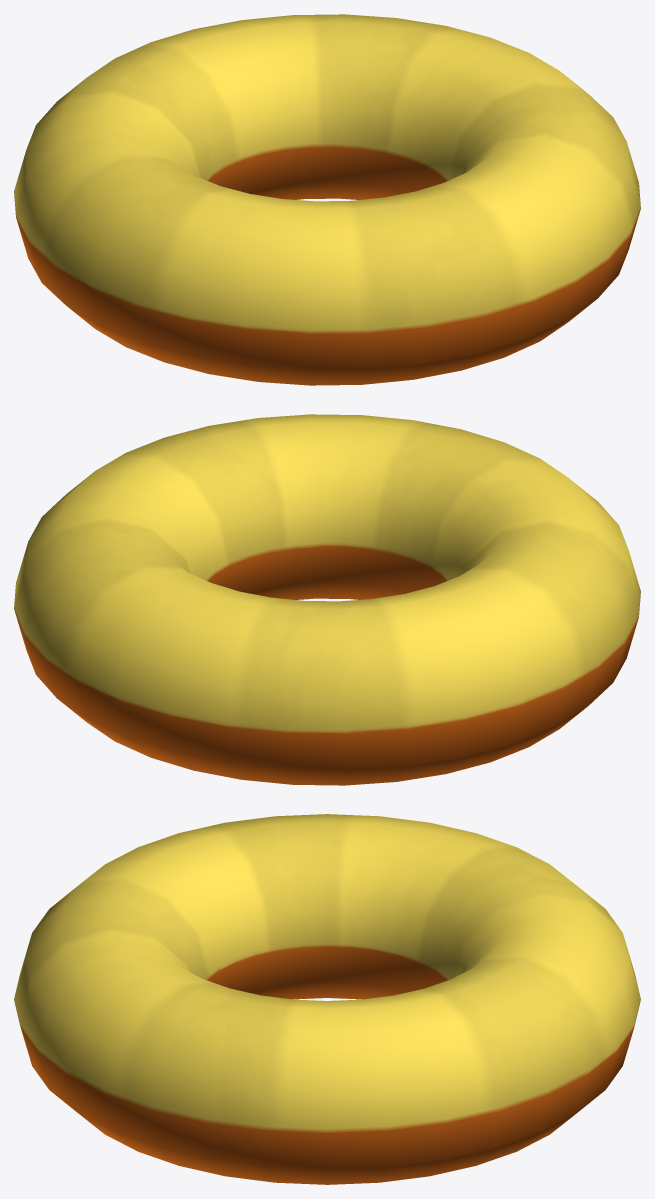
The model's file is IG_Armor_LifeRing.fbx.
3 views of the same model, one above another, from view 1: azimuth 30°, elevation 25°; view 2: azimuth 150°, elevation 25°; view 3: azimuth 270°, elevation 25° (orthographic).
Parts seen in each view (by area): view 1: SwimRing; view 2: SwimRing; view 3: SwimRing.
Part boxes in pixels (x1,y1,x2,y2): SwimRing: [14, 14, 640, 385]; SwimRing: [14, 414, 640, 785]; SwimRing: [14, 814, 640, 1184].
Bounding box in the file's own units: 1.13 × 0.3339 × 1.13.
1 material, 1 textured.
